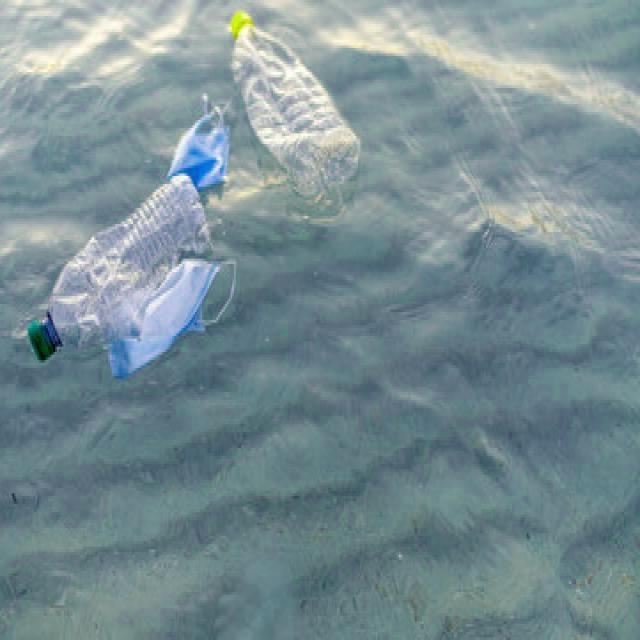Plastic: (21, 172, 220, 363), (227, 7, 361, 199)
Trash: (103, 249, 236, 379), (160, 91, 235, 197)
